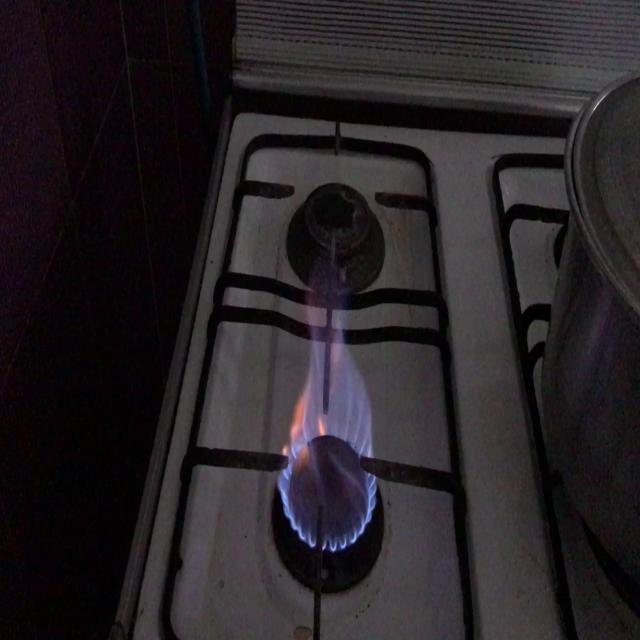Fire: (276, 325, 385, 549)
